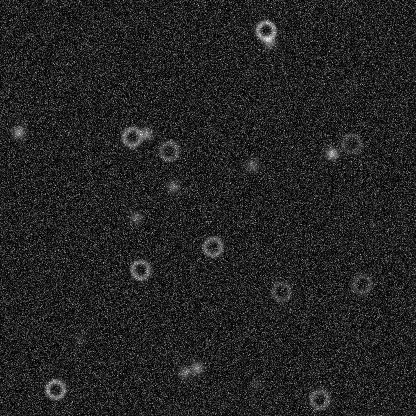Ring: (200, 234, 224, 258), (349, 272, 373, 296), (119, 124, 143, 148), (128, 257, 152, 281), (156, 138, 180, 162), (339, 131, 363, 155), (307, 387, 331, 411), (43, 377, 67, 401), (269, 279, 293, 303), (253, 18, 277, 42)
Spot: (165, 178, 181, 194), (188, 359, 204, 375), (248, 375, 264, 391), (176, 364, 192, 380), (261, 33, 277, 49), (323, 145, 339, 161), (244, 157, 260, 173), (137, 125, 153, 141), (127, 209, 143, 225), (9, 124, 25, 140), (70, 330, 86, 346)
